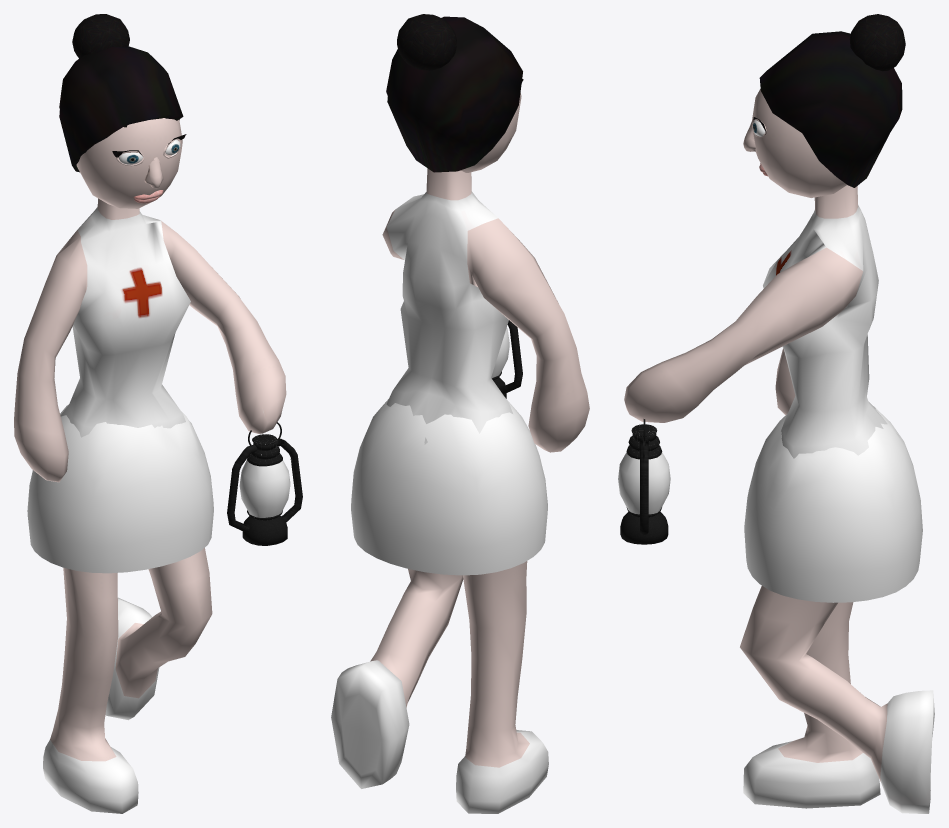
File: walking_000018.obj
The picture shows the model from 3 angles, left to right: view 1: azimuth 30°, elevation 25°; view 2: azimuth 150°, elevation 25°; view 3: azimuth 270°, elevation 25°; orthographic projection. The views are drawn at different scales.
Visible parts, largest first — view 1: Cube_Cube.001, Cube.001_Cube, Cube.004; view 2: Cube_Cube.001, Cube.001_Cube, Cube.004; view 3: Cube_Cube.001, Cube.001_Cube, Cube.004.
Part boxes in pixels (x1,y1,x2,y2): Cube_Cube.001: [14, 14, 286, 813]; Cube.001_Cube: [27, 404, 213, 573]; Cube.004: [227, 422, 302, 545]; Cube_Cube.001: [331, 14, 589, 813]; Cube.001_Cube: [351, 397, 547, 575]; Cube.004: [491, 320, 522, 398]; Cube_Cube.001: [624, 14, 934, 813]; Cube.001_Cube: [744, 406, 922, 602]; Cube.004: [618, 419, 670, 544].
Bounding box in the file's own units: 0.6082 × 2.08 × 0.747.
